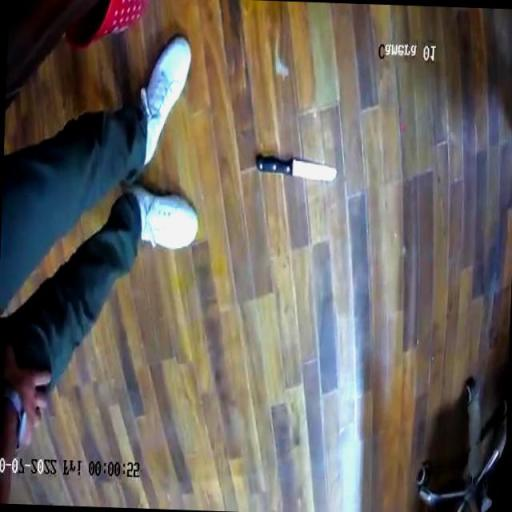knife: (251, 148, 341, 184)
